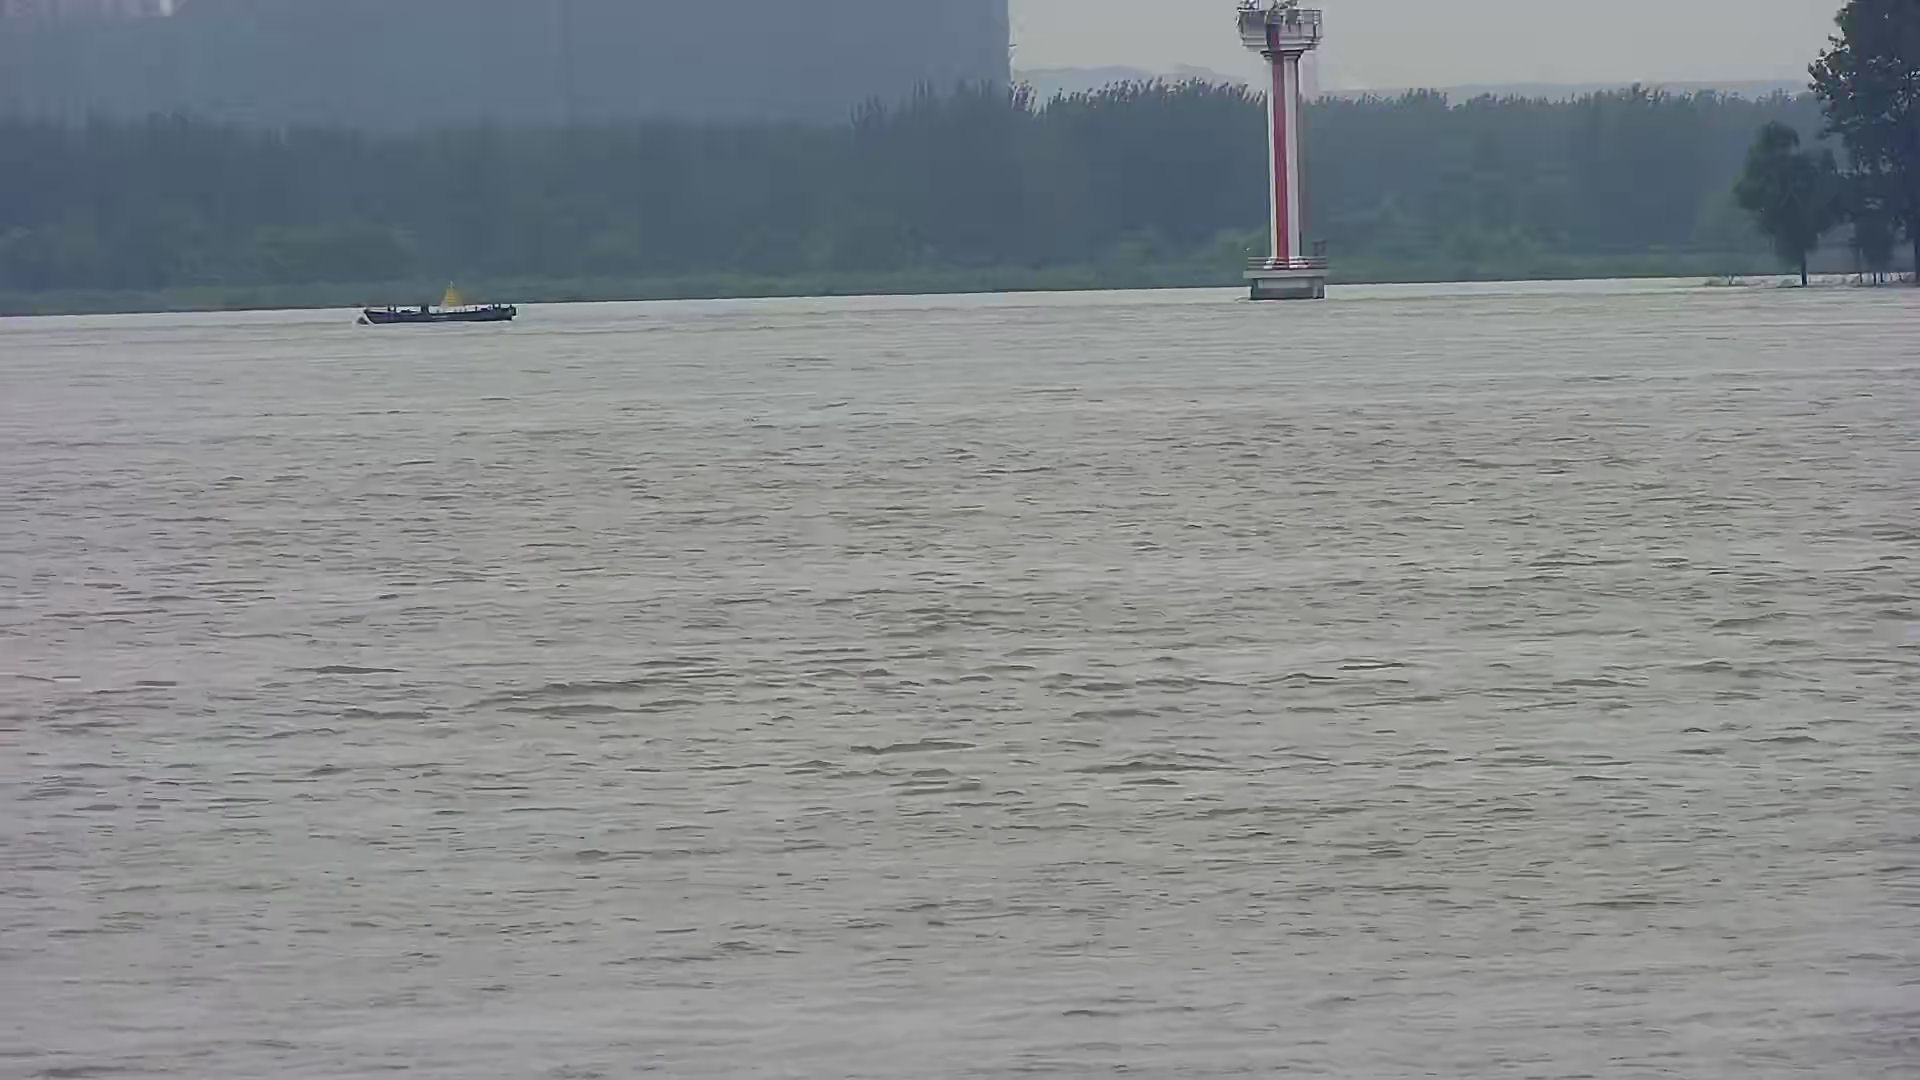boat: (364, 277, 518, 324)
platform: (1240, 4, 1327, 302)
tree: (1808, 4, 1920, 287), (1735, 109, 1836, 290)
